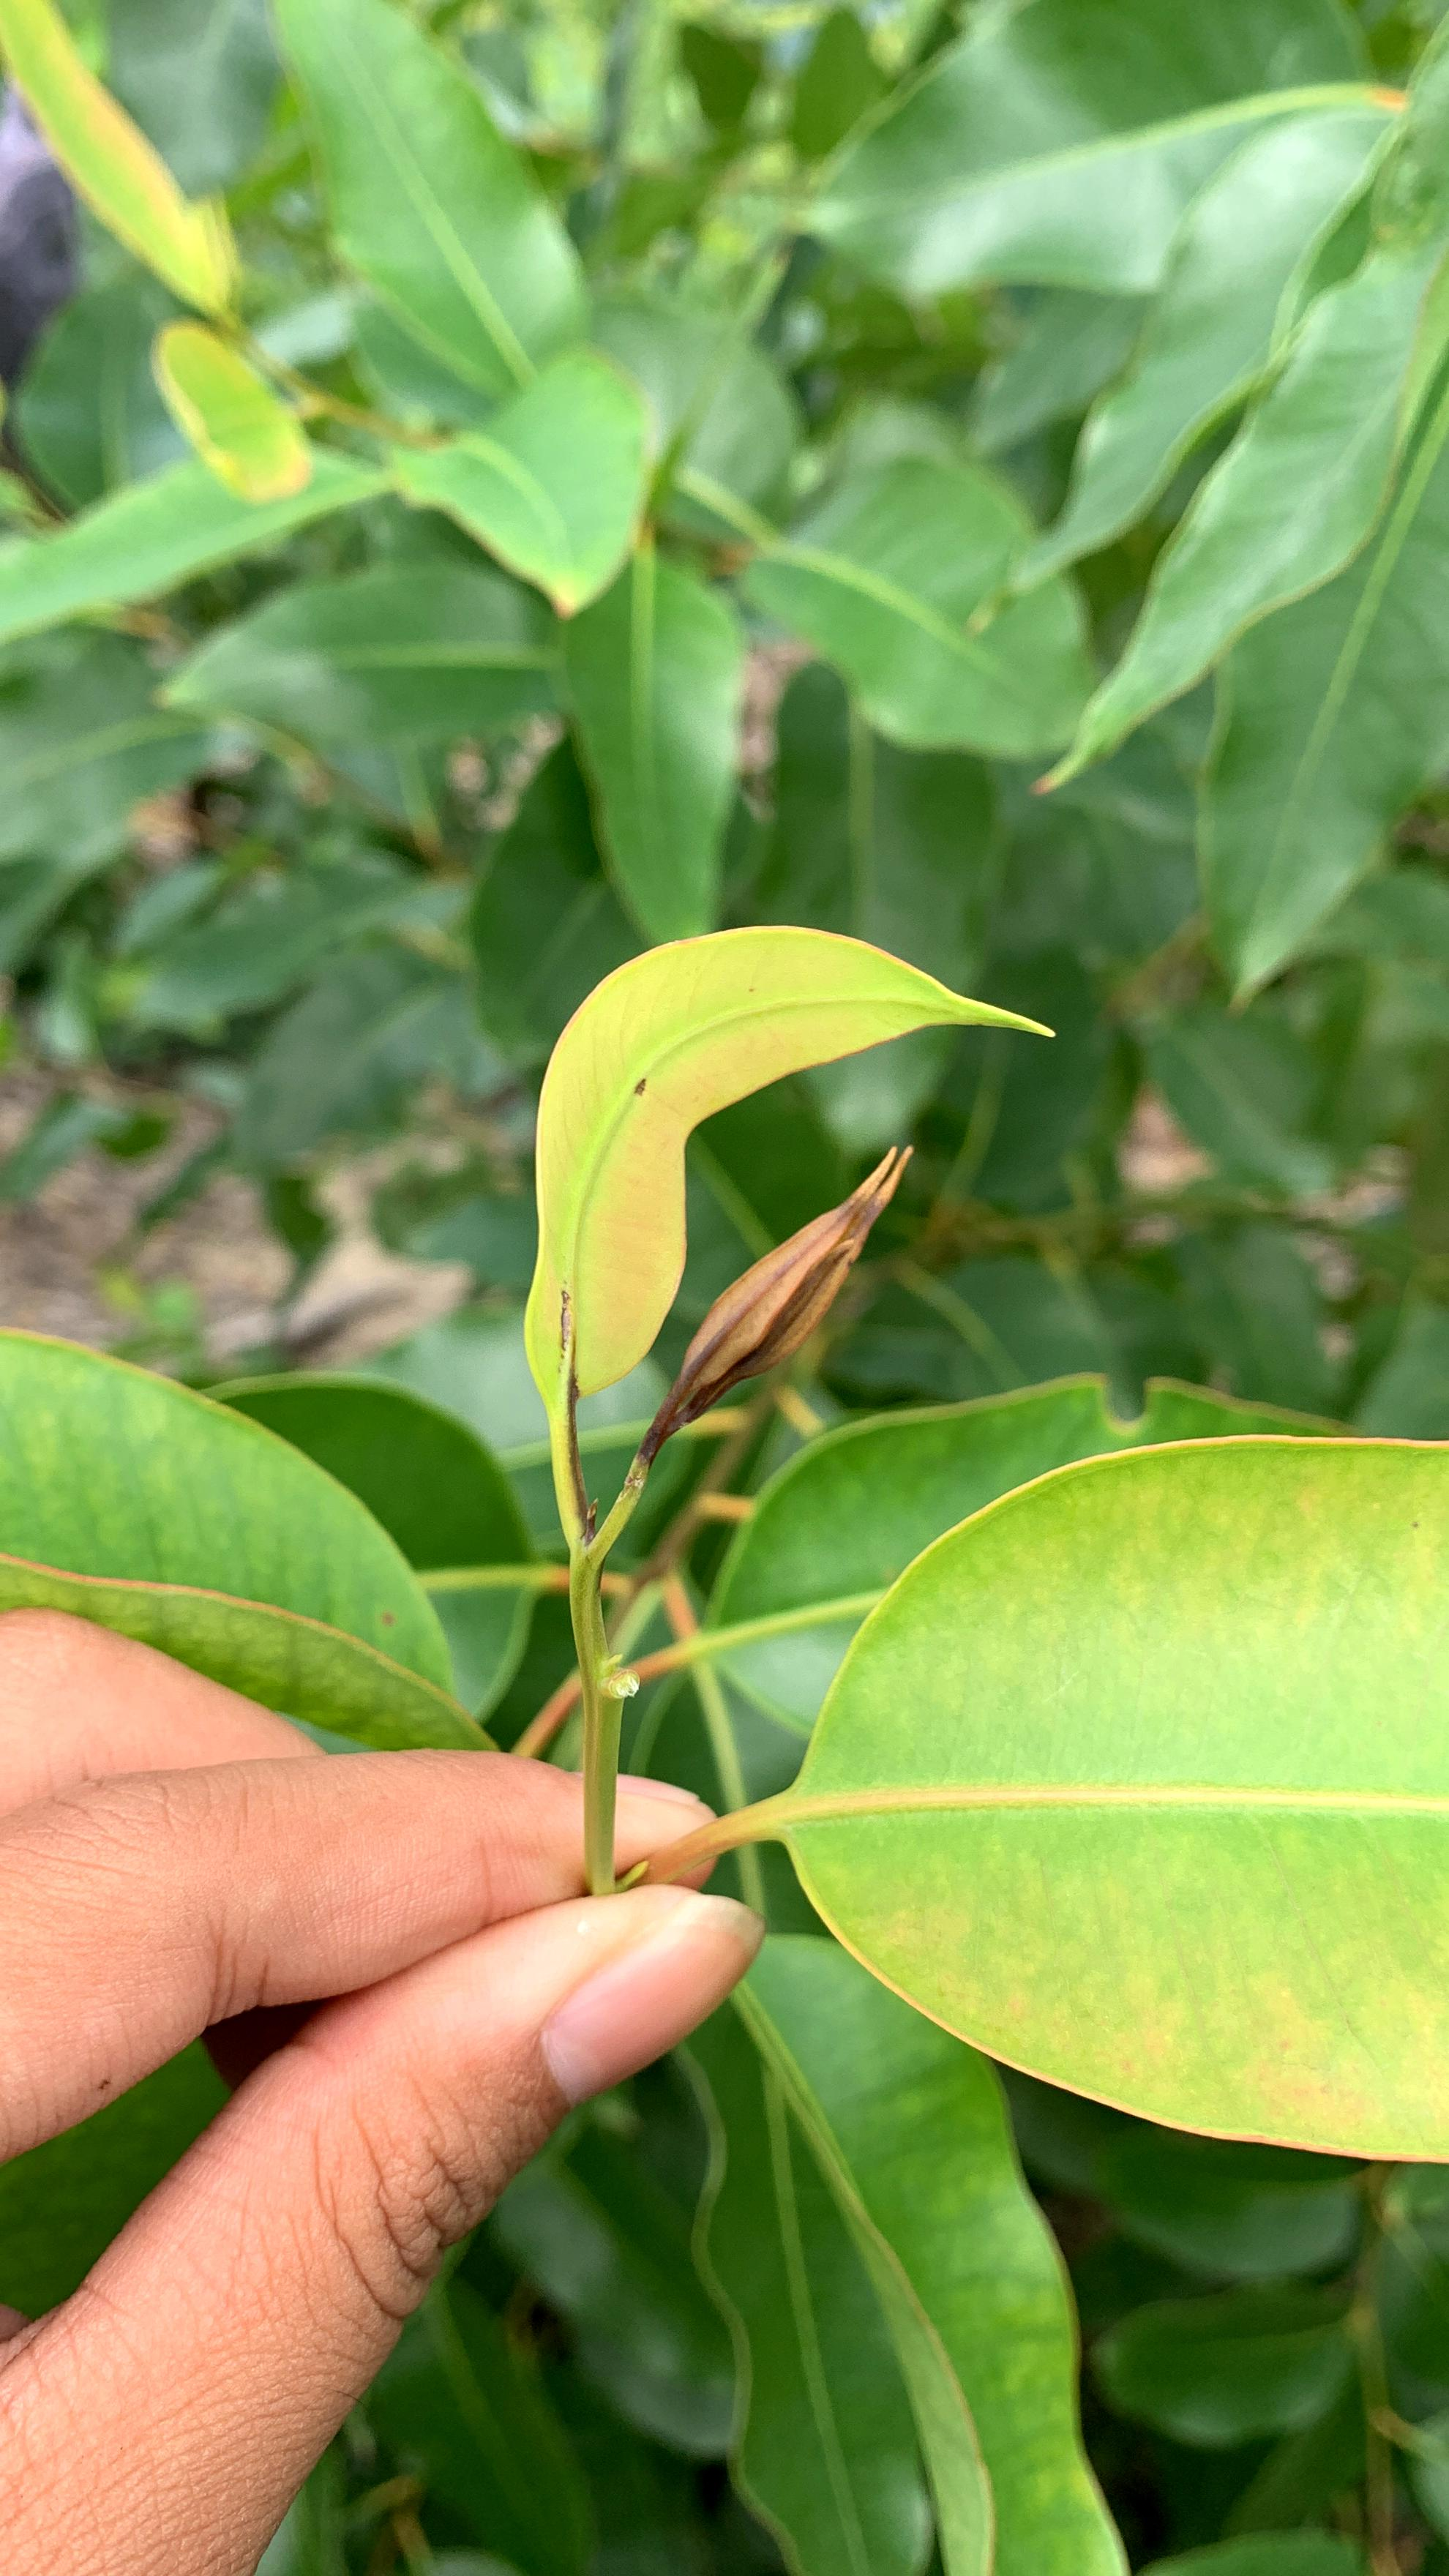Helopeltis-Withered Sprout: (552, 1077, 954, 1629)
